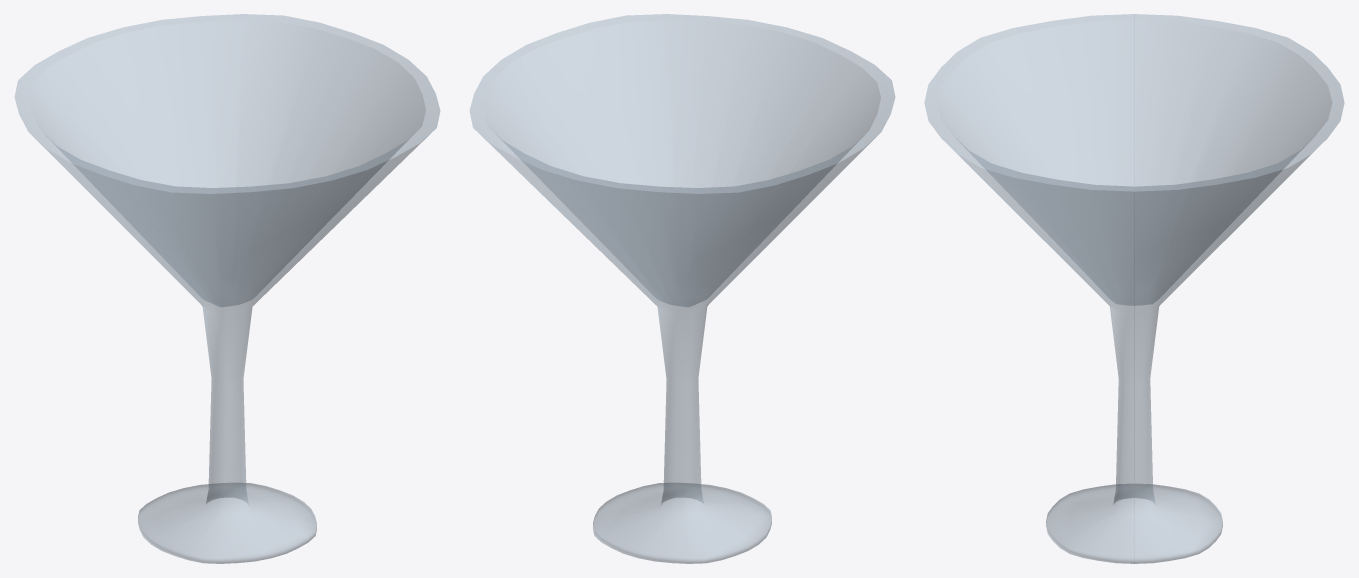
File: Cocktail.obj
3 views of the same model, side by side, from view 1: azimuth 30°, elevation 25°; view 2: azimuth 150°, elevation 25°; view 3: azimuth 270°, elevation 25° (orthographic).
Parts seen in each view (by area): view 1: 立方体.001; view 2: 立方体.001; view 3: 立方体.001.
Part boxes in pixels (<box>): 立方体.001: <box>14,14,440,563</box>; 立方体.001: <box>469,14,895,563</box>; 立方体.001: <box>924,14,1344,563</box>.
Size of the model in its own units: 1.68 by 1.87 by 1.68.
